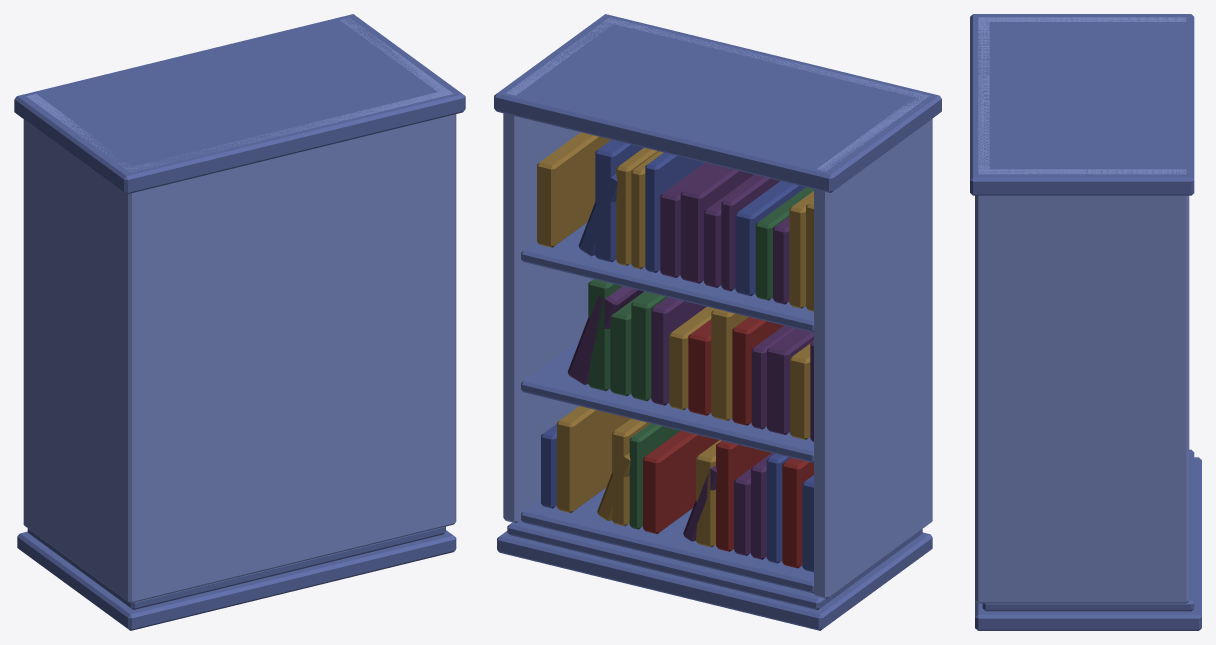
The model's file is blue_dungeon_bookcase_v0.glb.
3 renders of one model, left to right at view 1: azimuth 30°, elevation 25°; view 2: azimuth 150°, elevation 25°; view 3: azimuth 270°, elevation 25°, orthographic.
Visible parts, largest first — view 1: blue_dungeon_bookcase_v0; view 2: blue_dungeon_bookcase_v0; view 3: blue_dungeon_bookcase_v0.
Part boxes in pixels (x1,y1,x2,y2): blue_dungeon_bookcase_v0: (14,14,465,630); blue_dungeon_bookcase_v0: (494,14,941,630); blue_dungeon_bookcase_v0: (970,14,1201,630).
Bounding box in the file's own units: 1.56 × 2 × 0.92.
